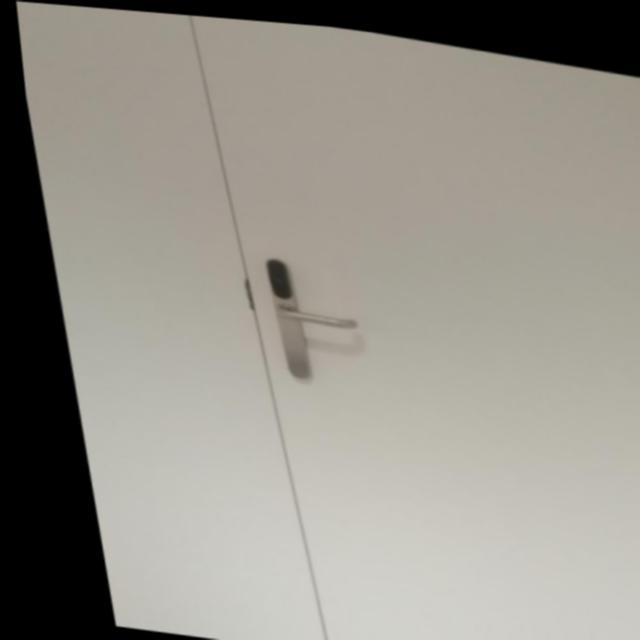door_handle: (259, 296, 348, 325)
